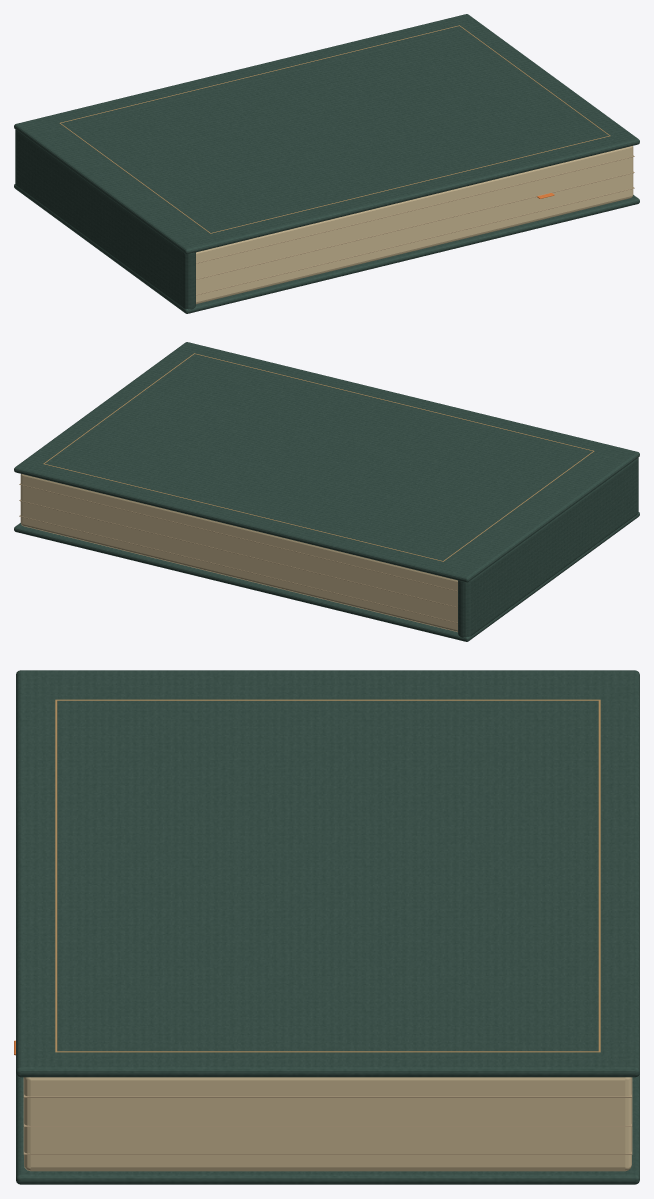
File: bookLarge.glb
3 renders of one model, top to bottom at view 1: azimuth 30°, elevation 25°; view 2: azimuth 150°, elevation 25°; view 3: azimuth 270°, elevation 25°, orthographic. The views are drawn at different scales.
Parts seen in each view (by area): view 1: bookLarge; view 2: bookLarge; view 3: bookLarge.
Boxes of the visible parts, left/top/right/bottom form: bookLarge: left=14, top=14, right=639, bottom=313; bookLarge: left=14, top=342, right=639, bottom=641; bookLarge: left=14, top=670, right=639, bottom=1184.
Size of the model in its own units: 0.22 by 0.0301 by 0.1454.
5 materials, 1 textured.
